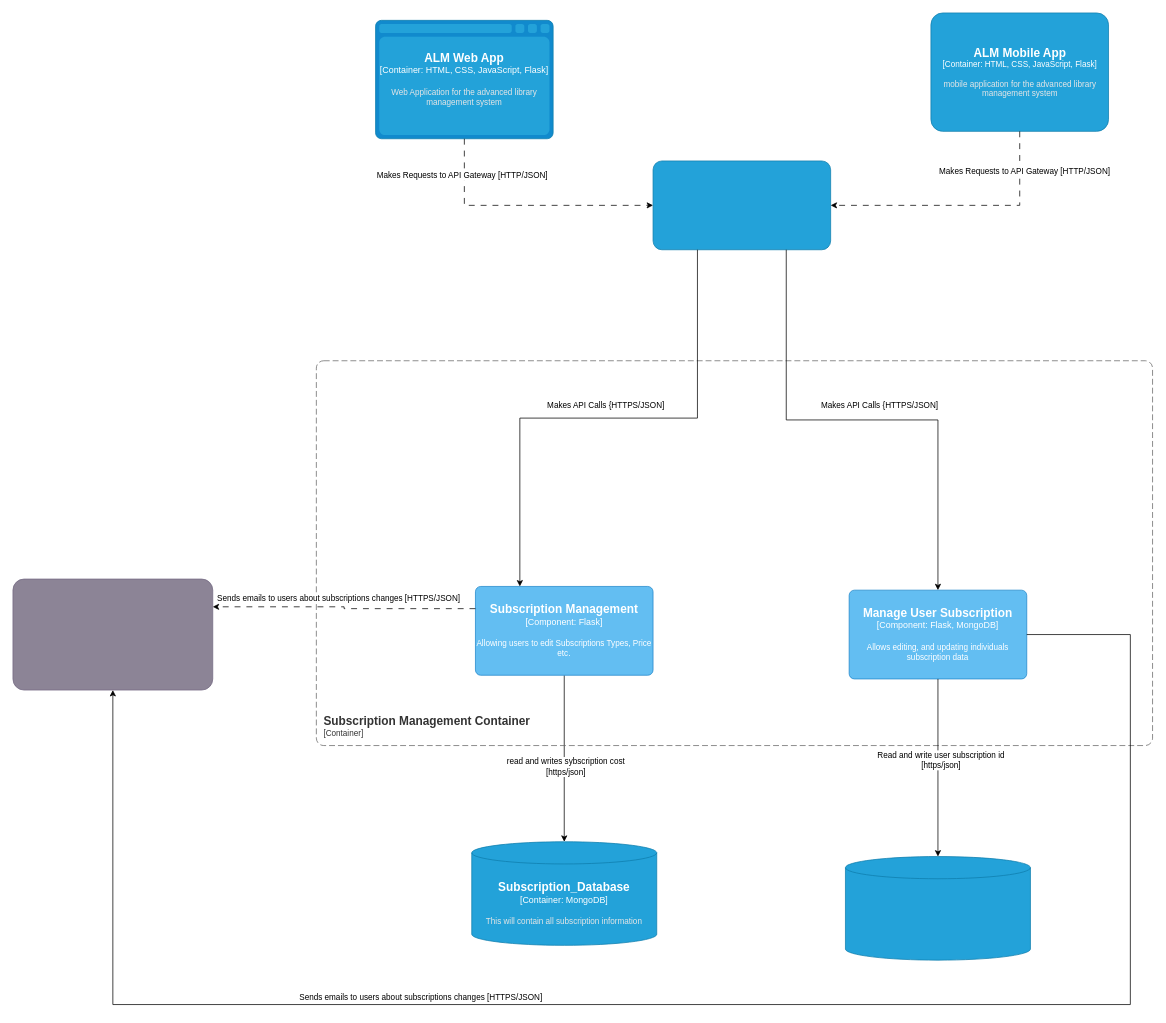
The diagram is 1166 pixels wide and 1023 high, and some of its shapes have lost their labels. The shapes that lost their labels are listed below. From the top down, each one's centre as x and y in pixels, then its label:
At [741,205]: "API Gateway [Container: Flask] Provides library functionality using JSON".
At [112,634]: "Email System [SMTP Server] SMTP Mail Sever".
At [937,908]: "User Database [Container: MongoDB] Stores user details".
